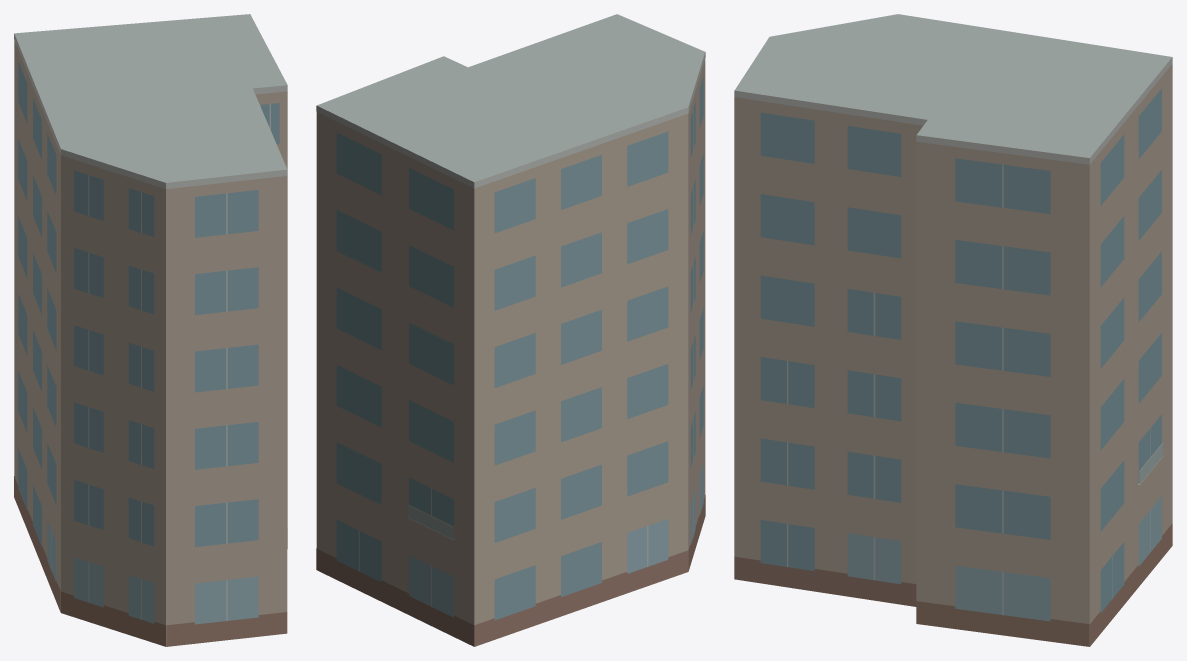
Rendered from survey-upis-32853539.glb.
The picture shows the model from 3 angles, left to right: view 1: azimuth 30°, elevation 25°; view 2: azimuth 150°, elevation 25°; view 3: azimuth 270°, elevation 25°; orthographic projection. The views are drawn at different scales.
Parts seen in each view (by area): view 1: survey-upis-32853539.tmp; view 2: survey-upis-32853539.tmp; view 3: survey-upis-32853539.tmp.
Part boxes in pixels (box(x1,y1,x2,y2)): survey-upis-32853539.tmp: box(14, 14, 287, 646); survey-upis-32853539.tmp: box(316, 14, 705, 646); survey-upis-32853539.tmp: box(734, 14, 1172, 646).
Bounding box in the file's own units: 11.55 × 18.25 × 14.83.
